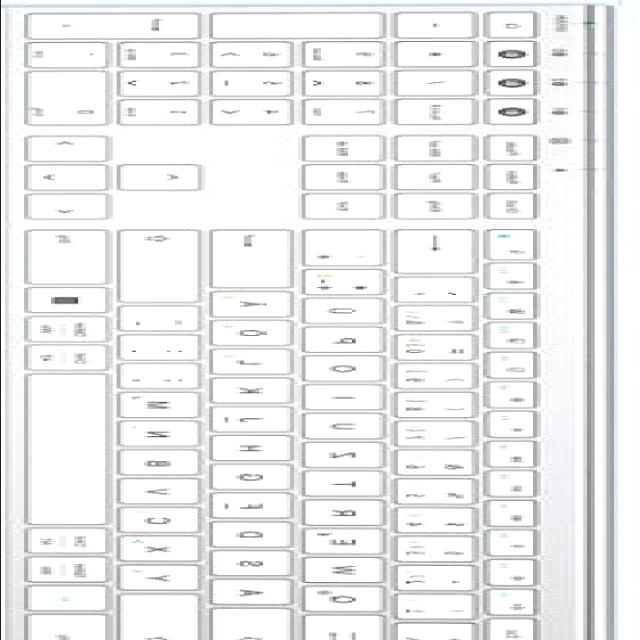0: (401, 336, 486, 364)
1: (401, 597, 482, 622)
2: (401, 567, 482, 593)
3: (401, 539, 486, 565)
4: (401, 510, 486, 535)
5: (401, 482, 486, 507)
6: (401, 452, 486, 478)
7: (401, 422, 486, 450)
8: (401, 394, 486, 420)
9: (401, 366, 486, 392)
a: (216, 581, 301, 607)
accent: (401, 279, 482, 305)
ae: (216, 293, 301, 319)
alt-left: (31, 530, 119, 556)
altgr-right: (31, 346, 119, 374)
b: (127, 451, 212, 479)
c: (127, 509, 212, 535)
caret: (401, 625, 482, 640)
comma: (124, 366, 209, 392)
d: (216, 524, 304, 549)
del: (401, 232, 486, 276)
e: (309, 531, 394, 557)
enter: (216, 230, 301, 290)
f: (216, 495, 301, 521)
g: (220, 466, 301, 492)
h: (216, 438, 304, 463)
hash: (305, 230, 386, 268)
i: (313, 386, 394, 412)
j: (216, 409, 304, 434)
k: (216, 380, 301, 406)
keyboard: (1, 0, 625, 640)
l: (216, 351, 301, 377)
m: (127, 394, 212, 420)
minus: (124, 307, 209, 335)
n: (124, 422, 212, 450)
o: (309, 358, 394, 384)
oe: (216, 323, 301, 348)
p: (313, 329, 394, 354)
plus: (313, 272, 394, 297)
point: (127, 337, 208, 363)
q: (309, 588, 394, 616)
r: (309, 501, 394, 529)
s: (216, 553, 301, 579)
shift-left: (127, 597, 212, 640)
shift-lock: (216, 610, 301, 640)
shift-right: (124, 231, 212, 305)
space: (24, 375, 112, 525)
ss: (401, 308, 486, 334)
strg-left: (31, 616, 116, 640)
strg-right: (31, 229, 116, 288)
t: (309, 474, 394, 499)
tab: (309, 618, 394, 640)
u: (309, 414, 394, 442)
ue: (309, 300, 397, 326)
v: (127, 481, 212, 506)
w: (309, 559, 397, 585)
x: (127, 538, 212, 564)
y: (127, 566, 208, 594)
z: (309, 444, 394, 470)
